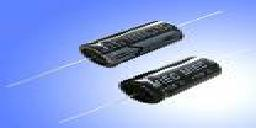Electrolytic-Capacitor: (108, 55, 251, 104), (67, 12, 203, 56)
